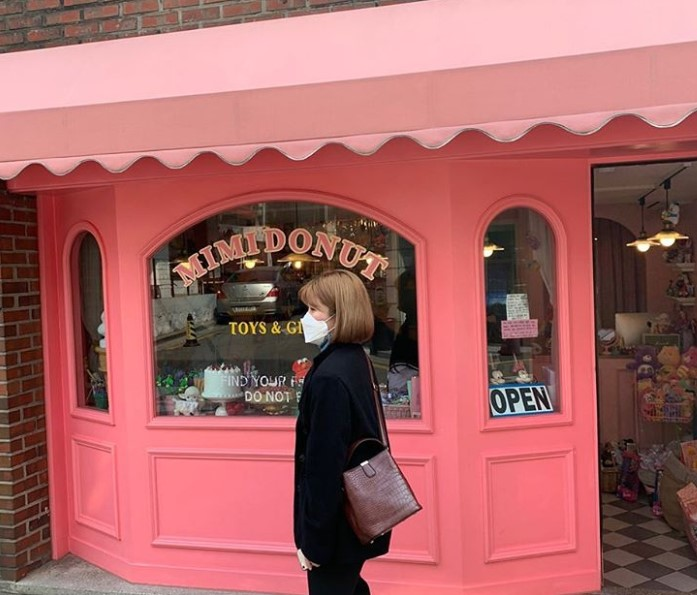face_with_mask: (296, 270, 368, 354)
